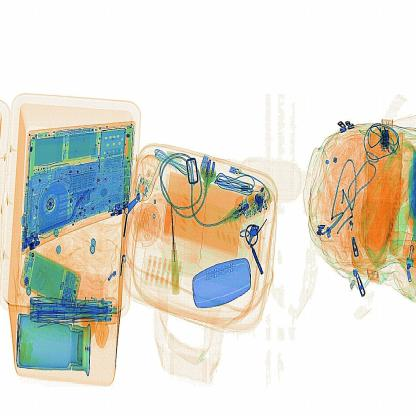wrench: (167, 200, 183, 299)
